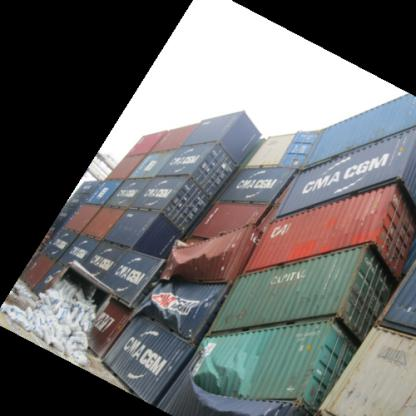Damage: (188, 331, 316, 415), (35, 262, 113, 338), (133, 281, 219, 330), (165, 237, 243, 278), (323, 201, 382, 245)
